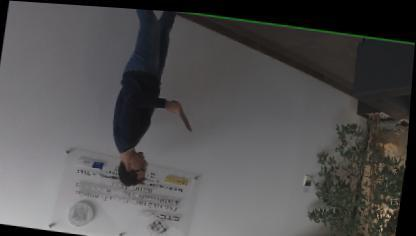knife: (168, 95, 198, 130)
